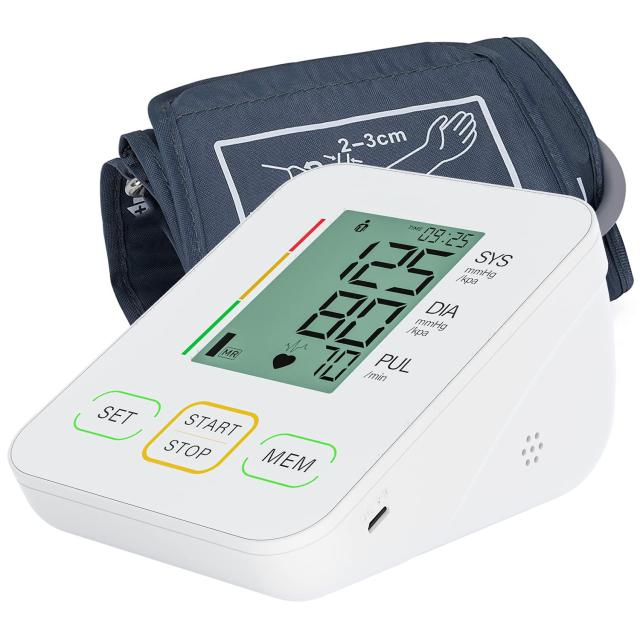dia: (282, 277, 416, 361)
pul: (291, 336, 373, 399)
ssd: (191, 149, 490, 448)
sys: (321, 222, 466, 310)
